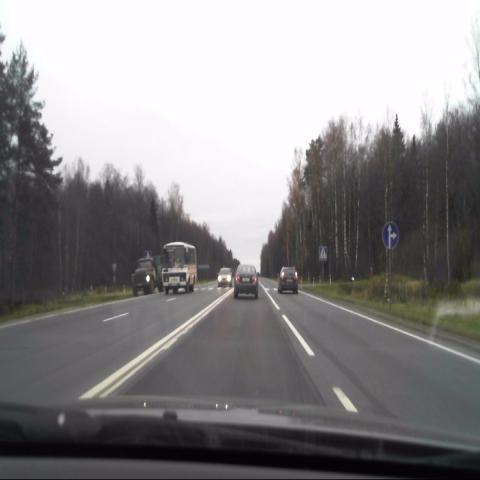4_1_4: (382, 221, 398, 249)
